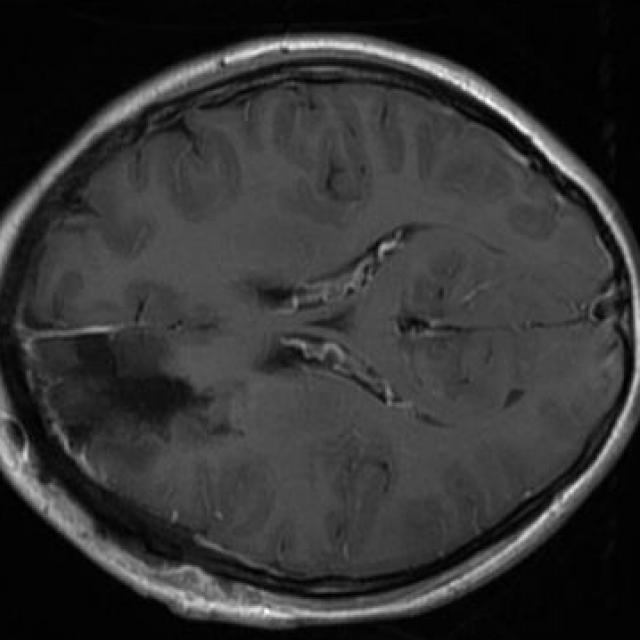glioma: (34, 328, 230, 472)
